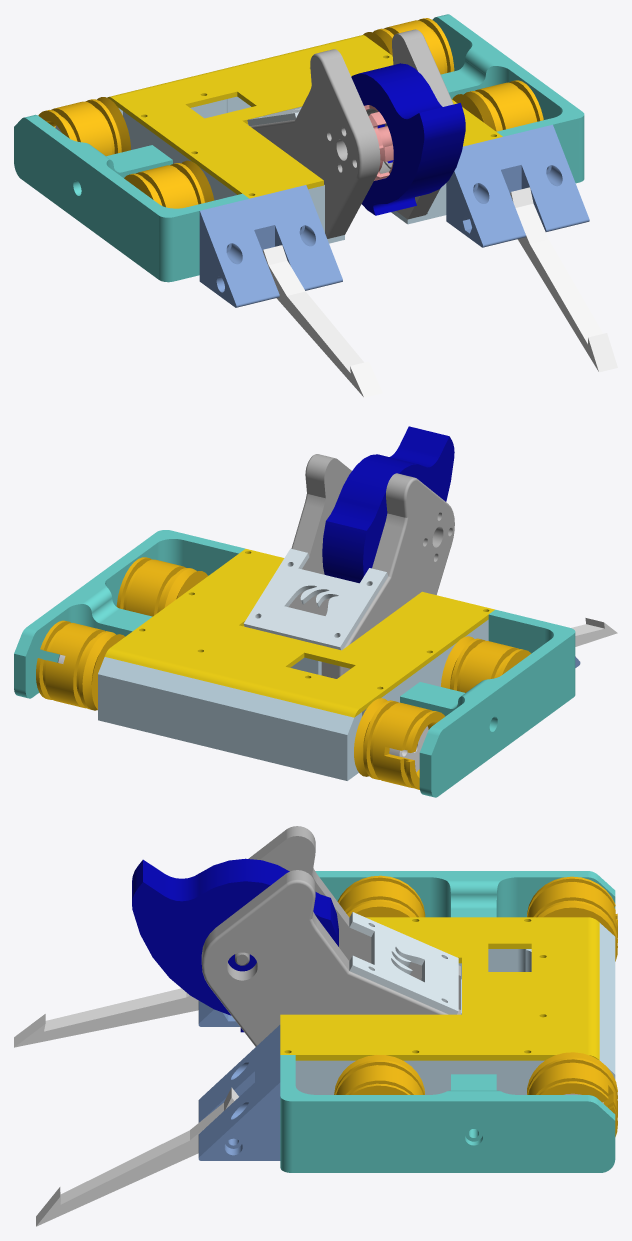
File: bot.gltf
3 renders of one model, top to bottom at view 1: azimuth 30°, elevation 25°; view 2: azimuth 150°, elevation 25°; view 3: azimuth 270°, elevation 25°, orthographic. The views are drawn at different scales.
Parts seen in each view (by area): view 1: Top Plate, Wheel Guard-Mirrored, Wedgelet Mirrored, Wedgelet, Upright Motor Mount, Weapon (1), Fork (×2), Wheel Guard, Driven Pulley Wheel (×2), Driving Pulley Wheel (×2), Body Sandwich, Upright Bearing Mount (+1 smaller); view 2: Top Plate, Body Sandwich, Wheel Guard-Mirrored, Driving Pulley Wheel (×2), Weapon (1), Upright Motor Mount, Wheel Guard, Upright Plate, Driven Pulley Wheel (×2), Upright Bearing Mount, Fork; view 3: Top Plate, Wheel Guard, Upright Bearing Mount, Weapon (1), Fork (×2), Body Sandwich, Wedgelet, Wheel Guard-Mirrored, Driving Pulley Wheel (×2), Upright Plate, Driven Pulley Wheel (×2), Upright Motor Mount (+1 smaller).
Part boxes in pixels (x1,y1,x2,y2): Top Plate: [107, 35, 502, 198]; Wheel Guard-Mirrored: [14, 114, 248, 282]; Wedgelet Mirrored: [199, 185, 342, 307]; Wedgelet: [446, 124, 589, 247]; Upright Motor Mount: [250, 49, 380, 238]; Weapon (1): [351, 63, 465, 215]; Fork (×2): [263, 187, 617, 397]; Wheel Guard: [432, 14, 584, 183]; Driven Pulley Wheel (×2): [124, 80, 543, 208]; Driving Pulley Wheel (×2): [38, 18, 454, 156]; Body Sandwich: [118, 96, 446, 243]; Upright Bearing Mount: [392, 29, 453, 219]; Top Plate: [104, 549, 494, 717]; Body Sandwich: [98, 619, 488, 780]; Wheel Guard-Mirrored: [400, 609, 575, 797]; Driving Pulley Wheel (×2): [36, 620, 445, 789]; Weapon (1): [322, 426, 454, 583]; Upright Motor Mount: [321, 473, 454, 678]; Wheel Guard: [14, 530, 245, 698]; Upright Plate: [243, 548, 388, 650]; Driven Pulley Wheel (×2): [116, 557, 531, 692]; Upright Bearing Mount: [259, 454, 351, 618]; Fork: [571, 618, 617, 646]; Top Plate: [280, 917, 599, 1060]; Wheel Guard: [280, 1055, 615, 1172]; Upright Bearing Mount: [201, 870, 460, 1046]; Weapon (1): [132, 858, 338, 1032]; Fork (×2): [14, 988, 238, 1226]; Body Sandwich: [295, 923, 615, 1094]; Wedgelet: [198, 1025, 280, 1160]; Wheel Guard-Mirrored: [315, 871, 615, 917]; Driving Pulley Wheel (×2): [527, 876, 617, 1136]; Upright Plate: [349, 912, 458, 1014]; Driven Pulley Wheel (×2): [334, 875, 425, 1094]; Upright Motor Mount: [248, 826, 460, 1009].
Bounding box in the file's own units: 0.1792 × 0.1096 × 0.1985.
